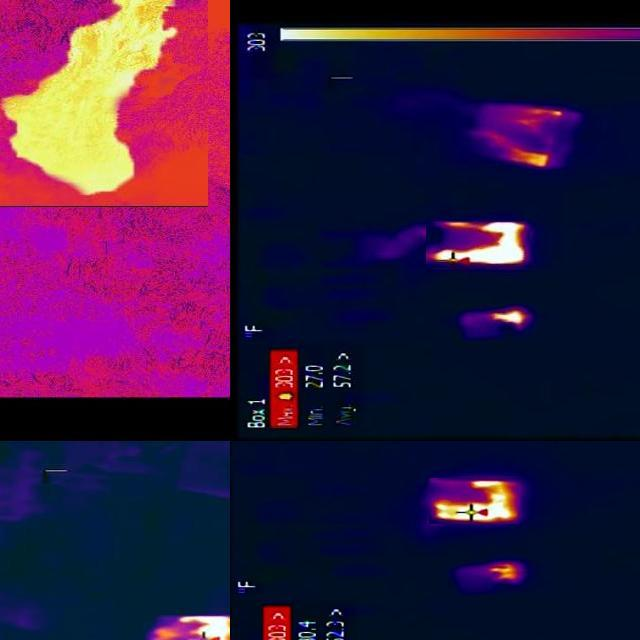fire: (1, 1, 180, 199), (484, 104, 566, 179), (426, 222, 530, 269), (429, 479, 519, 525), (148, 616, 231, 640), (482, 561, 526, 583), (489, 310, 530, 326)
